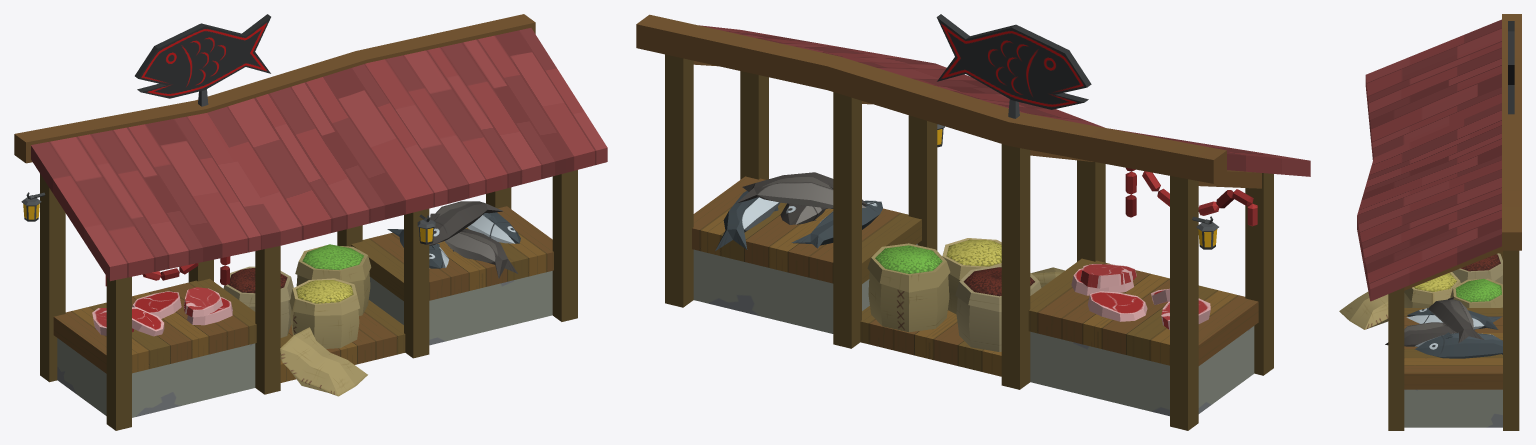
The model's file is Market 02.fbx.
The picture shows the model from 3 angles, left to right: view 1: azimuth 30°, elevation 25°; view 2: azimuth 150°, elevation 25°; view 3: azimuth 270°, elevation 25°; orthographic projection. The views are drawn at different scales.
Visible parts, largest first — view 1: Market_02; view 2: Market_02; view 3: Market_02.
Boxes of the visible parts, <box> form: Market_02: <box>14,14,607,430</box>; Market_02: <box>636,14,1310,430</box>; Market_02: <box>1339,14,1521,430</box>.
Size of the model in its own units: 760 by 450 by 274.
